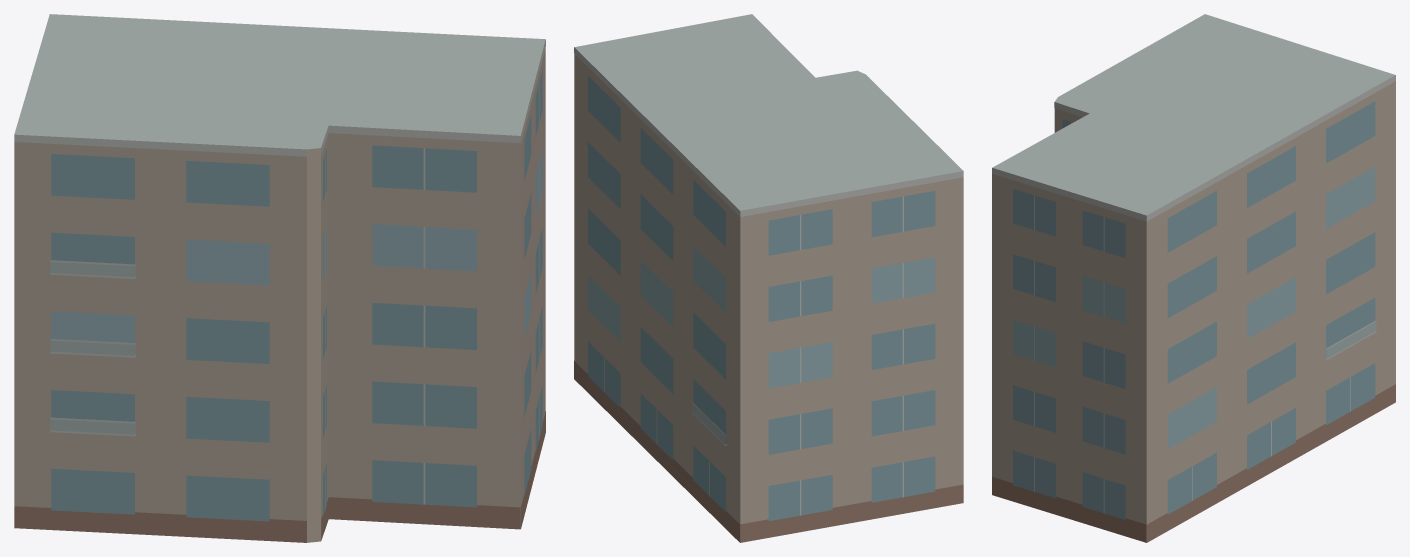
The model's file is survey-upis-32636143.glb.
3 views of the same model, side by side, from view 1: azimuth 30°, elevation 25°; view 2: azimuth 150°, elevation 25°; view 3: azimuth 270°, elevation 25° (orthographic). The views are drawn at different scales.
Parts seen in each view (by area): view 1: survey-upis-32636143.tmp; view 2: survey-upis-32636143.tmp; view 3: survey-upis-32636143.tmp.
Part boxes in pixels (x1=…): survey-upis-32636143.tmp: x1=14, y1=14, x2=545, y2=542; survey-upis-32636143.tmp: x1=574, y1=14, x2=963, y2=542; survey-upis-32636143.tmp: x1=992, y1=14, x2=1395, y2=542.
Size of the model in its own units: 17.31 by 13.1 by 14.65.
